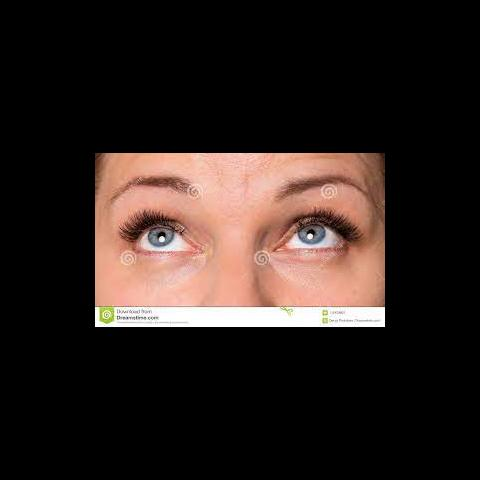opened: (116, 193, 369, 269)
